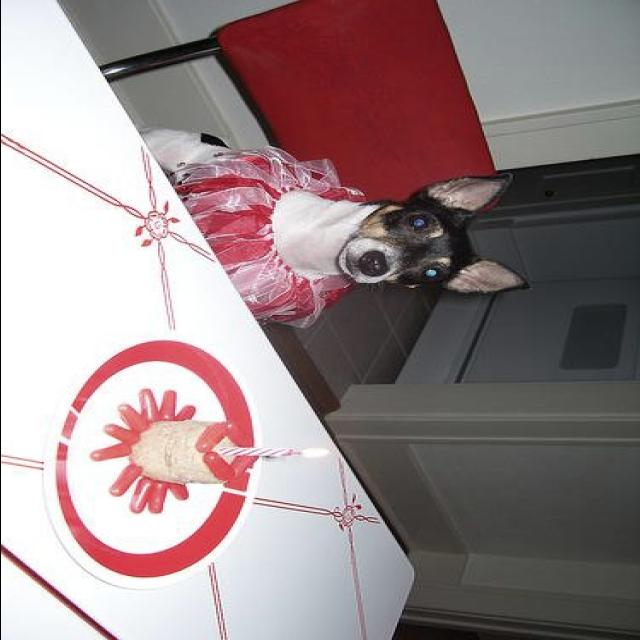toy_terrier: (127, 126, 530, 322)
